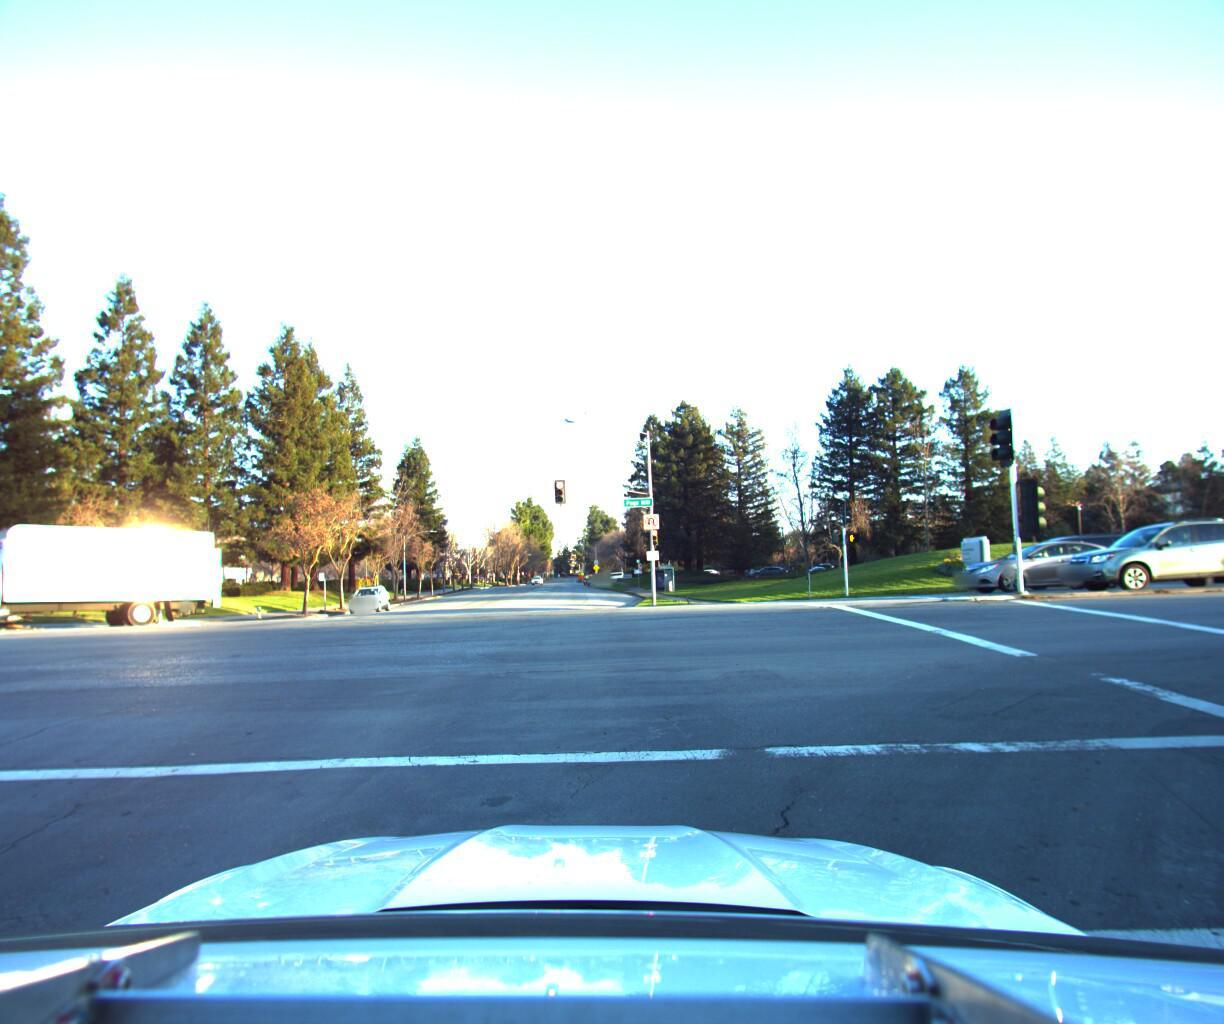car: (1042, 500, 1224, 586), (972, 517, 1159, 582), (943, 526, 1141, 586), (1171, 513, 1224, 573), (344, 581, 395, 612)
truck: (0, 517, 227, 644)
